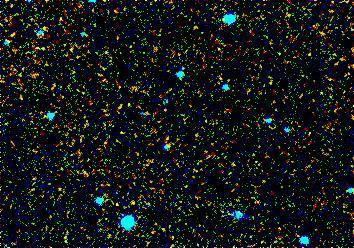star: (118, 187, 148, 217)
